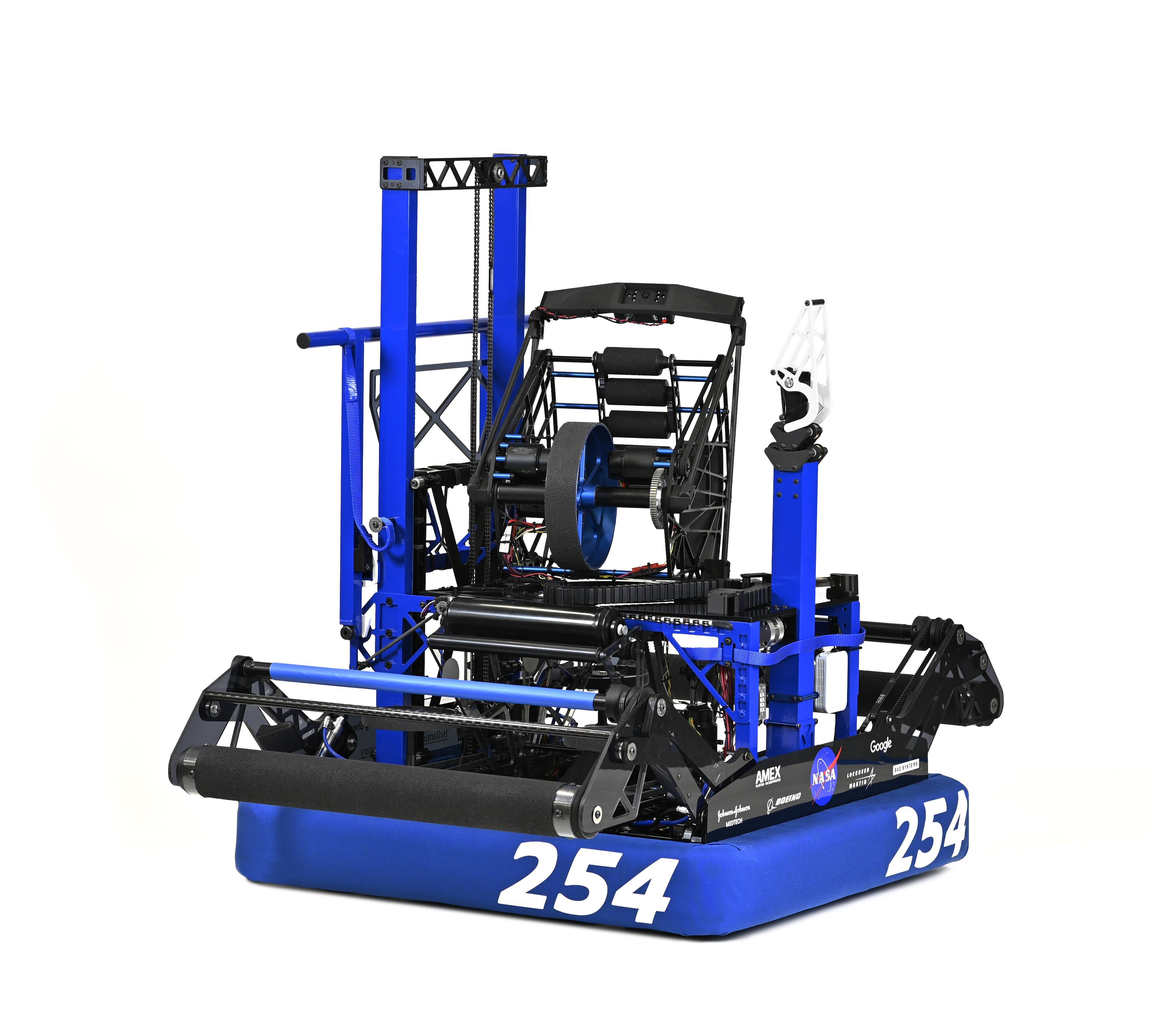robot: (170, 101, 1020, 951)
